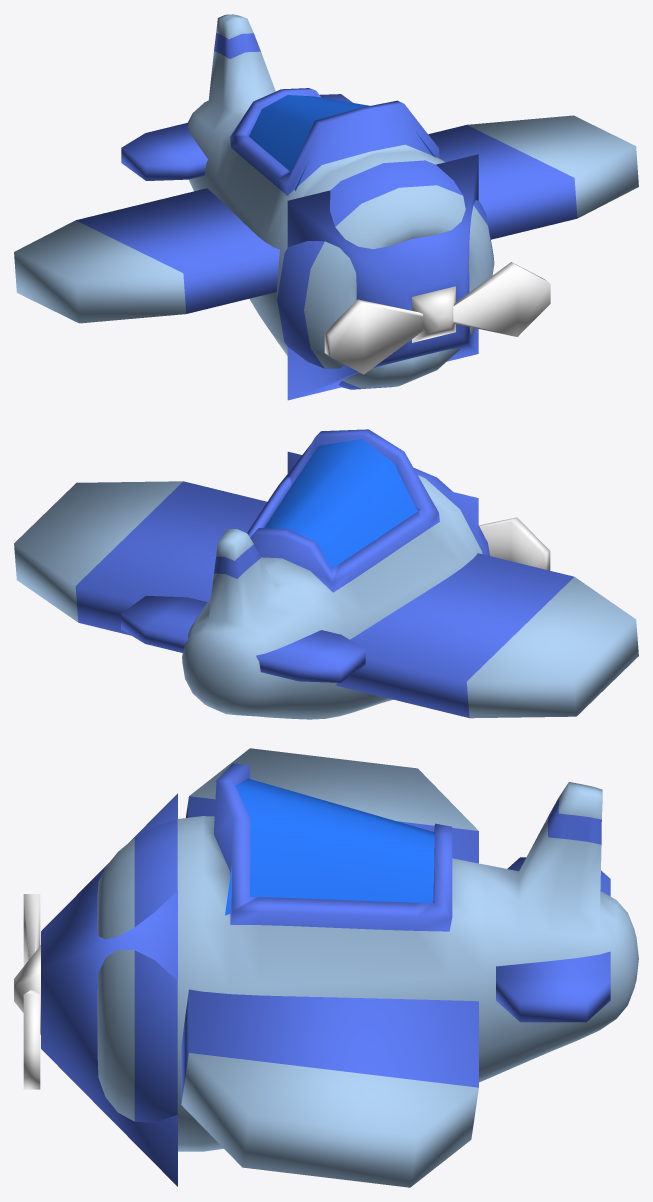
File: 小飞机单个模型.glb
3 renders of one model, top to bottom at view 1: azimuth 30°, elevation 25°; view 2: azimuth 150°, elevation 25°; view 3: azimuth 270°, elevation 25°, orthographic. The views are drawn at different scales.
Visible parts, largest first — view 1: Cube, 立方体.002, 立方体, 螺旋桨, 平面, 立方体.003, 立方体.001; view 2: 立方体.002, Cube, 平面, 立方体.003, 螺旋桨, 立方体; view 3: Cube, 立方体.002, 平面, 立方体, 立方体.003, 螺旋桨, 立方体.001.
Part boxes in pixels (bbox=[...]): Cube: bbox=[188, 14, 494, 389]; 立方体.002: bbox=[14, 115, 638, 323]; 立方体: bbox=[287, 154, 478, 400]; 螺旋桨: bbox=[324, 262, 550, 374]; 平面: bbox=[249, 95, 435, 190]; 立方体.003: bbox=[121, 94, 352, 180]; 立方体.001: bbox=[412, 286, 455, 342]; 立方体.002: bbox=[14, 481, 638, 718]; Cube: bbox=[182, 429, 489, 719]; 平面: bbox=[265, 439, 417, 568]; 立方体.003: bbox=[121, 596, 365, 682]; 螺旋桨: bbox=[479, 517, 550, 570]; 立方体: bbox=[287, 451, 478, 544]; Cube: bbox=[97, 763, 638, 1151]; 立方体.002: bbox=[181, 748, 478, 1187]; 平面: bbox=[225, 778, 434, 915]; 立方体: bbox=[41, 793, 177, 1186]; 立方体.003: bbox=[496, 857, 610, 1022]; 螺旋桨: bbox=[23, 894, 40, 1089]; 立方体.001: bbox=[14, 945, 40, 1034].
Size of the model in its own units: 8.48 by 3.81 by 6.1.
